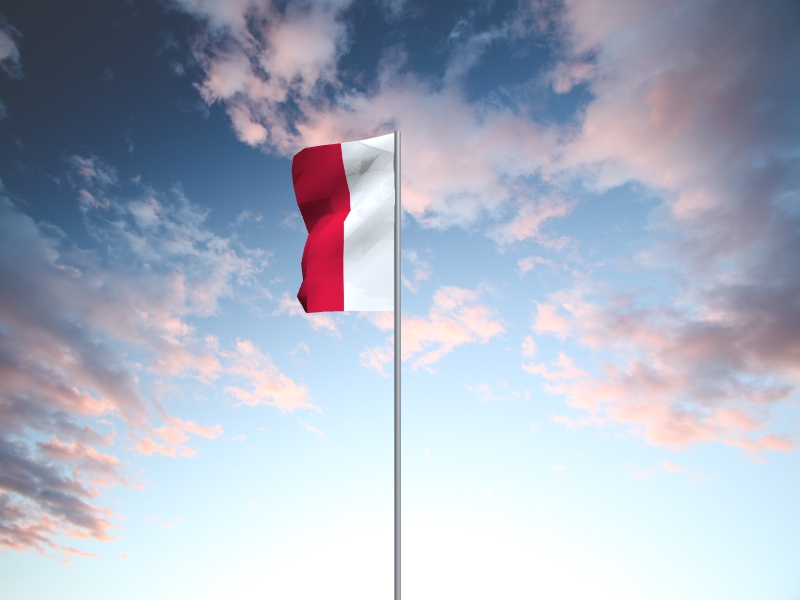pl: (291, 134, 395, 314)
